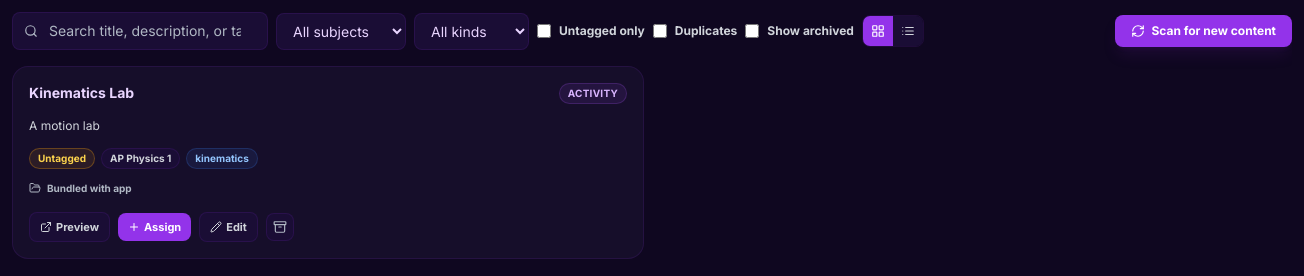
Test: LibraryTab › defaults to list view when Untagged only is active
Click the checkbox labelled "Untagged only": (544, 31) left=537, top=24, right=551, bottom=38
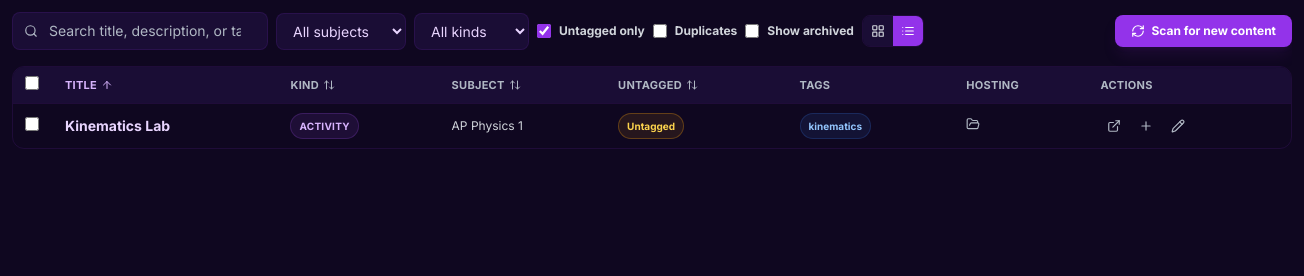
Result: the table named "content library items" is shown at left=13, top=67, right=1291, bottom=148
